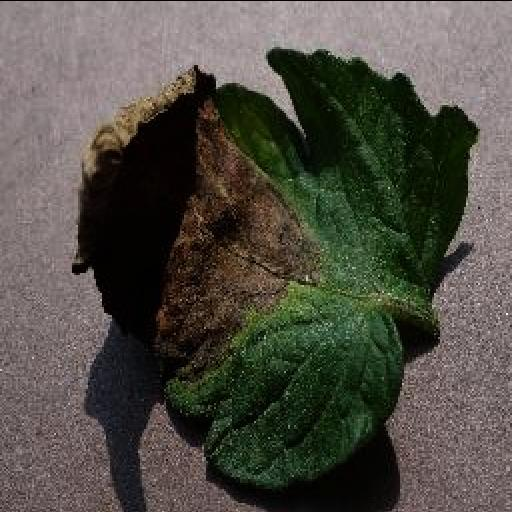disease_tomato: (66, 44, 482, 488)
